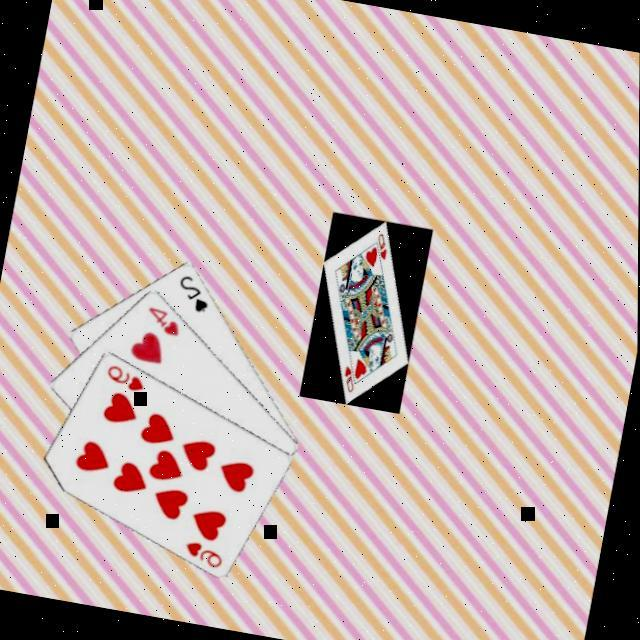2S: (173, 271, 217, 317)
4H: (142, 303, 187, 340)
9H: (103, 362, 152, 397), (181, 538, 230, 573)
